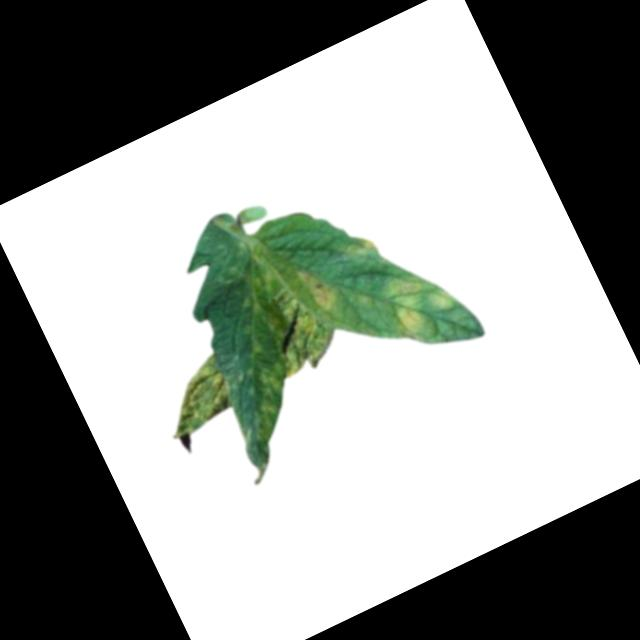Leaf_Mold: (372, 256, 467, 349), (254, 282, 340, 378), (151, 356, 238, 440), (242, 361, 299, 422), (296, 264, 336, 319), (337, 233, 379, 268)
